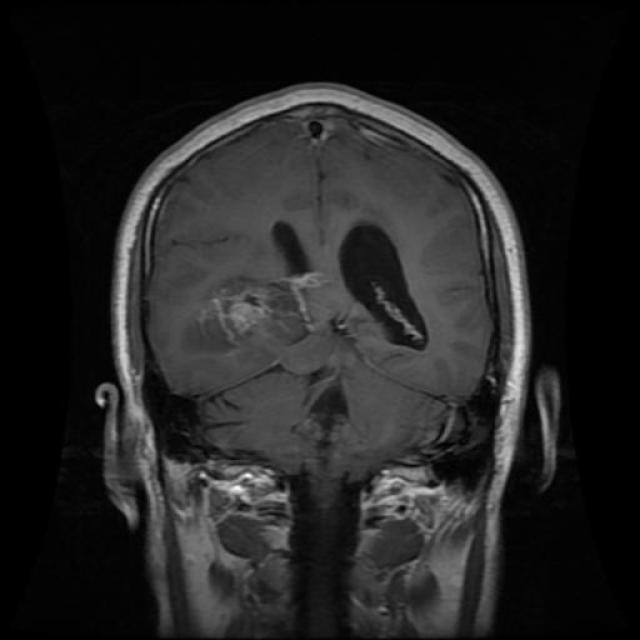glioma: (336, 216, 442, 360)
